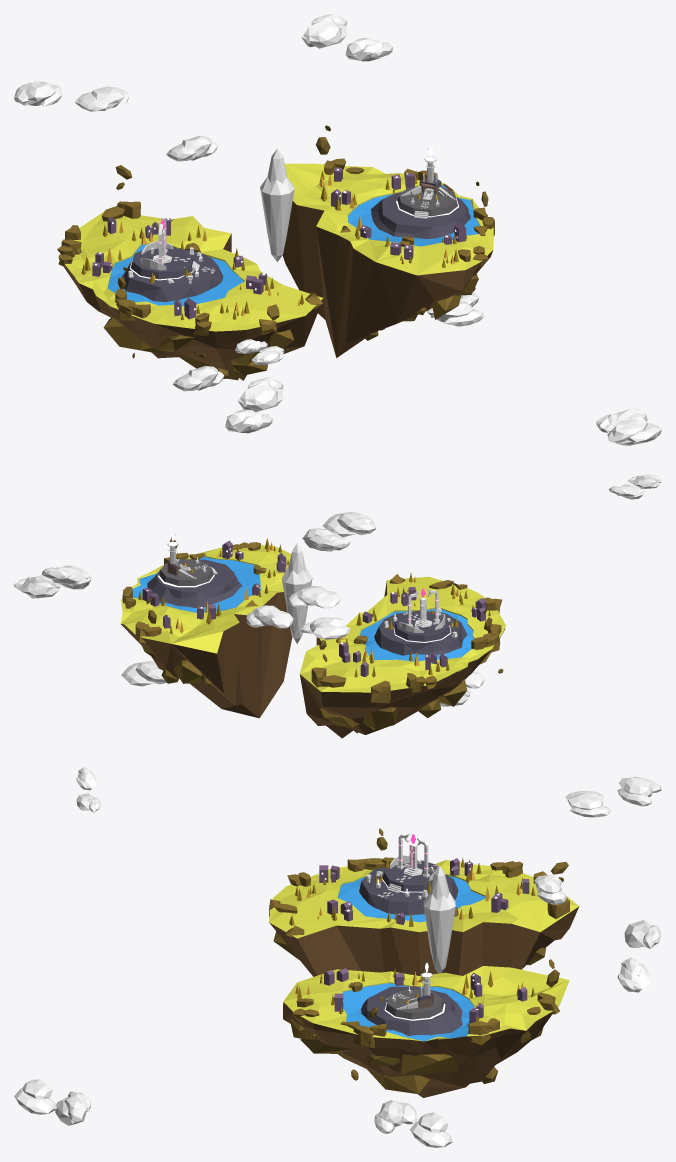
The model's file is Islands_nolights.glb.
The picture shows the model from 3 angles, top to bottom: view 1: azimuth 30°, elevation 25°; view 2: azimuth 150°, elevation 25°; view 3: azimuth 270°, elevation 25°; orthographic projection. The views are drawn at different scales.
Parts seen in each view (by area): view 1: Cylinder.029, Cylinder.087, Cylinder.022, TourCentrale, SocleTour01, SOL, Nuage02.012, Nuage02.010, SOL.003, Nuage01.000, Nuage05.025, Nuage05.026 (+7 smaller); view 2: Cylinder.029, Cylinder.087, Cylinder.022, SocleTour01, TourCentrale, Nuage01.000, SOL, SOL.003, Nuage05.026, Nuage02.012, Nuage05.027, Nuage01.008 (+6 smaller); view 3: Cylinder.087, Cylinder.029, Cylinder.022, TourCentrale, SocleTour01, SOL.003, Nuage01.000, Nuage01.008, Icosphere.107, Nuage05.028, Nuage05.025, SOL (+6 smaller).
Part boxes in pixels (x1,y1,x2,y2): Cylinder.029: [282, 163, 493, 357]; Cylinder.087: [64, 211, 323, 380]; Cylinder.022: [371, 192, 470, 238]; TourCentrale: [260, 148, 294, 262]; SocleTour01: [122, 248, 223, 301]; SOL: [131, 247, 194, 279]; Nuage02.012: [301, 14, 347, 48]; Nuage02.010: [238, 377, 283, 412]; SOL.003: [397, 186, 457, 216]; Nuage01.000: [607, 419, 661, 445]; Nuage05.025: [14, 81, 61, 106]; Nuage05.026: [75, 86, 129, 111]; Cylinder.029: [120, 545, 292, 718]; Cylinder.087: [300, 576, 505, 738]; Cylinder.022: [147, 559, 241, 608]; SocleTour01: [374, 610, 467, 655]; TourCentrale: [282, 543, 312, 643]; Nuage01.000: [322, 511, 376, 537]; SOL: [394, 612, 450, 641]; SOL.003: [159, 559, 213, 585]; Nuage05.026: [288, 586, 341, 608]; Nuage02.012: [42, 565, 91, 589]; Nuage05.027: [246, 605, 293, 628]; Nuage01.008: [121, 661, 166, 686]; Cylinder.087: [269, 860, 579, 976]; Cylinder.029: [283, 966, 569, 1097]; Cylinder.022: [361, 986, 462, 1035]; TourCentrale: [423, 866, 455, 973]; SocleTour01: [359, 867, 458, 915]; SOL.003: [385, 989, 443, 1019]; Nuage01.000: [14, 1079, 56, 1114]; Nuage01.008: [410, 1112, 452, 1147]; Icosphere.107: [401, 1054, 458, 1074]; Nuage05.028: [374, 1100, 418, 1133]; Nuage05.025: [617, 776, 661, 806]; SOL: [382, 860, 437, 891].
Bounding box in the file's own units: 131 × 68.6 × 173.
